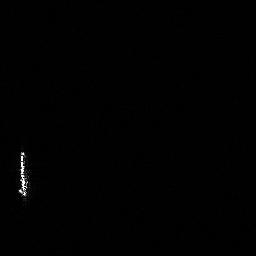ship: (15, 147, 34, 199)
